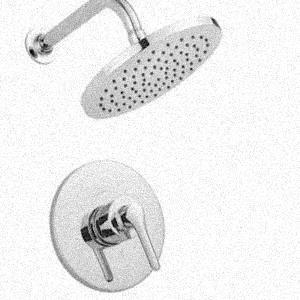Ducha: (8, 0, 236, 299)
